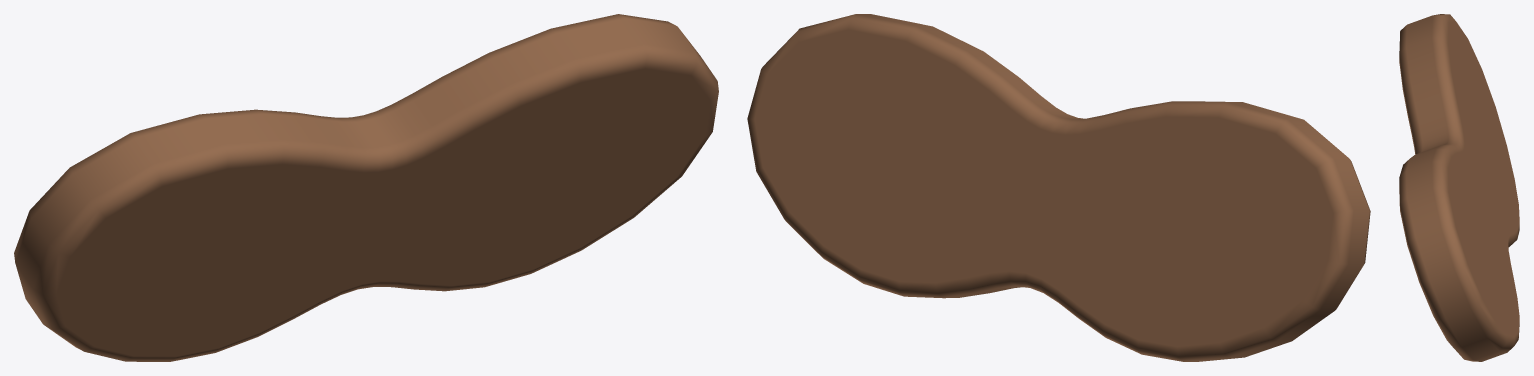
The model's file is curly_mustache.glb.
3 views of the same model, side by side, from view 1: azimuth 30°, elevation 25°; view 2: azimuth 150°, elevation 25°; view 3: azimuth 270°, elevation 25° (orthographic). The views are drawn at different scales.
Parts seen in each view (by area): view 1: curly_mustache_Head; view 2: curly_mustache_Head; view 3: curly_mustache_Head.
Part boxes in pixels (x1,y1,x2,y2): curly_mustache_Head: (14,14,718,361); curly_mustache_Head: (747,14,1370,361); curly_mustache_Head: (1399,14,1519,361).
Size of the model in its own units: 0.269 by 0.1012 by 0.0572.
